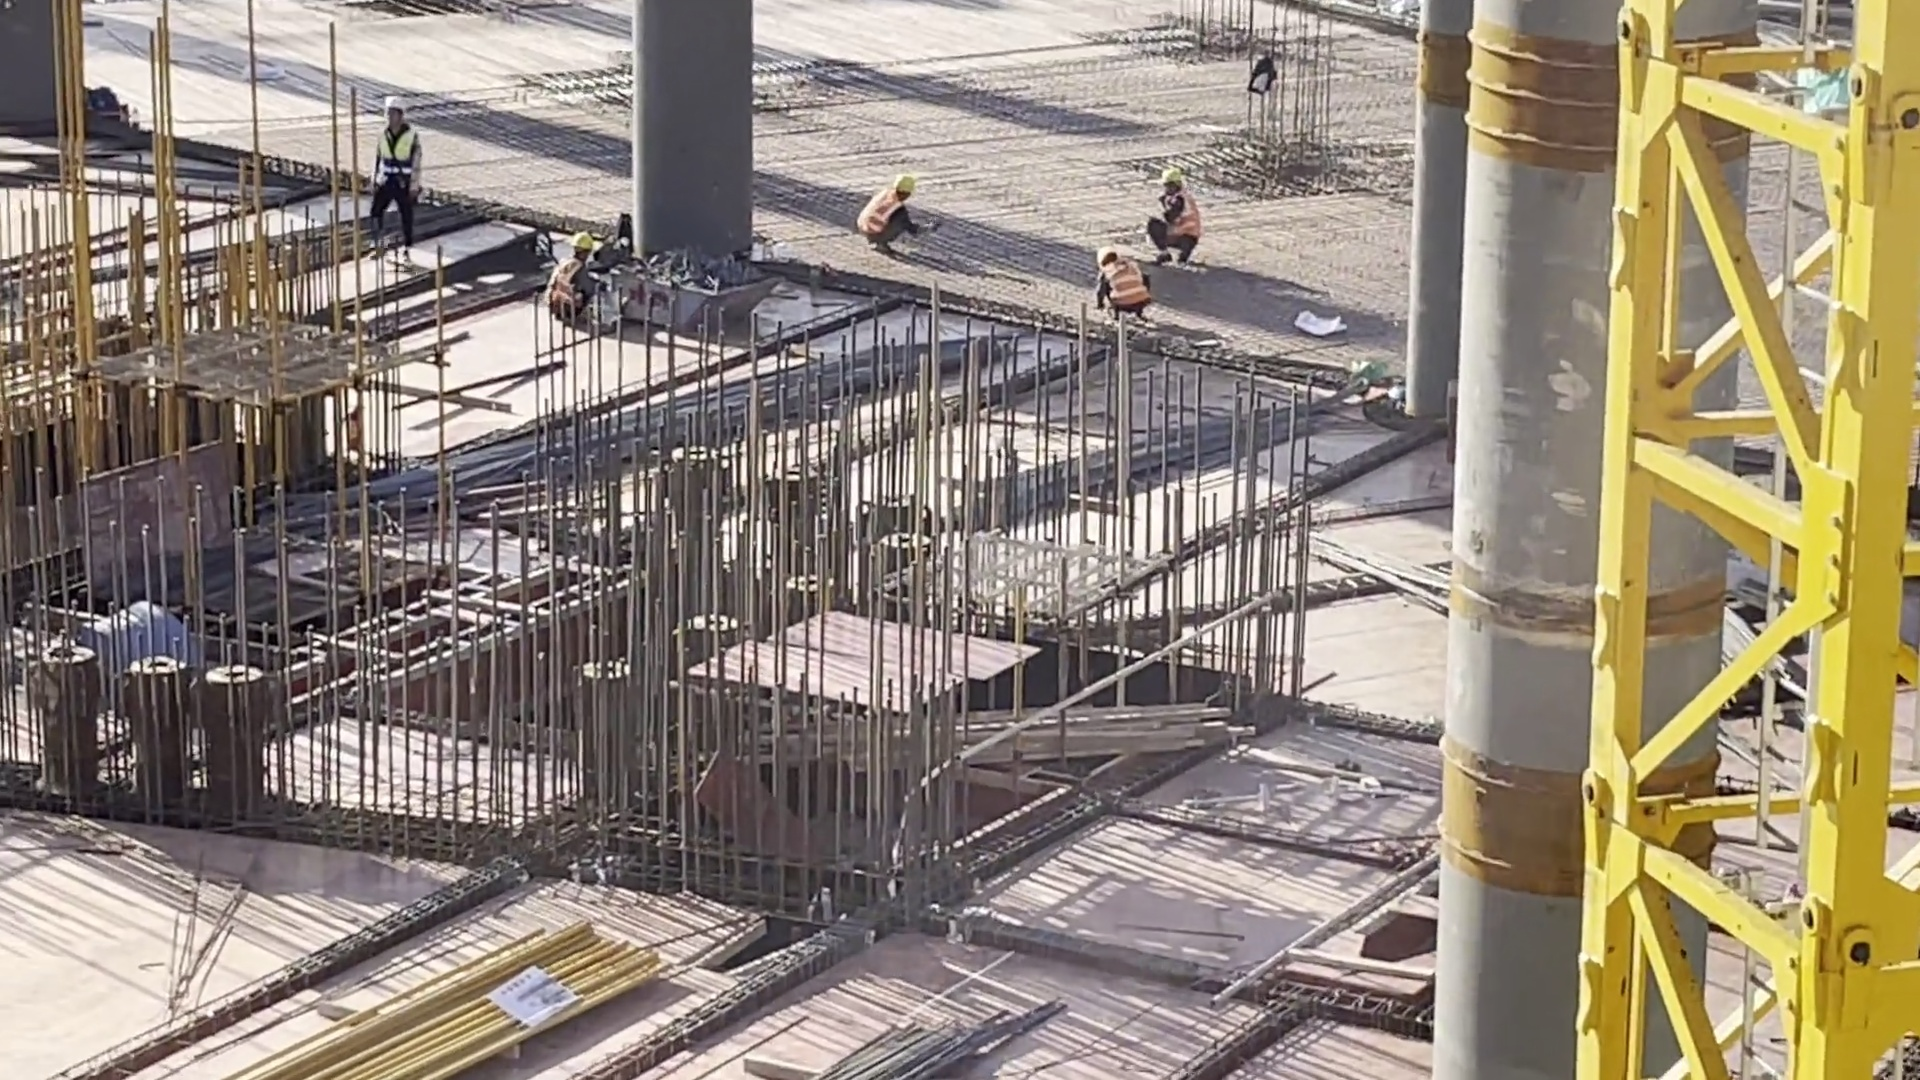helmet: (1148, 161, 1185, 197), (571, 230, 607, 255), (897, 165, 919, 197), (1090, 245, 1118, 263), (382, 98, 413, 111)
person: (356, 87, 430, 258), (856, 158, 929, 267), (1138, 165, 1211, 269), (1084, 242, 1152, 326), (545, 222, 592, 323)
vest: (370, 127, 423, 193), (857, 189, 905, 241), (1159, 185, 1201, 244), (1096, 263, 1138, 313), (545, 249, 586, 298)
